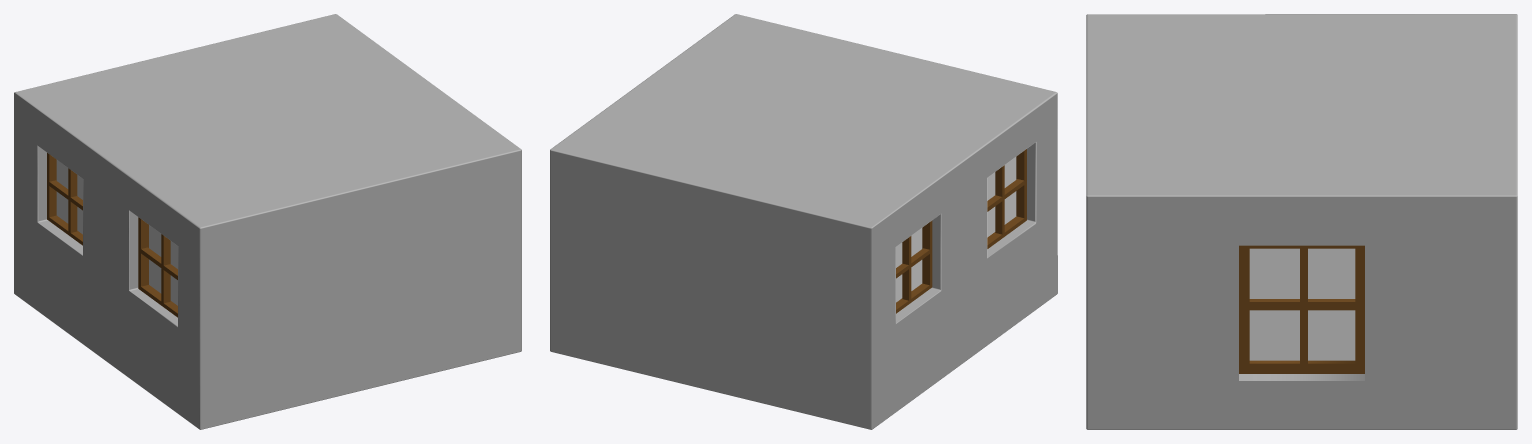
Rendered from F_Door_3.fbx.
3 views of the same model, side by side, from view 1: azimuth 30°, elevation 25°; view 2: azimuth 150°, elevation 25°; view 3: azimuth 270°, elevation 25° (orthographic). The views are drawn at different scales.
Parts seen in each view (by area): view 1: Wall.004, Window_1.003, Window_2.004; view 2: Wall.004, Window_1.003, Window_2.004; view 3: Wall.004, Big_Window.
Part boxes in pixels (x1,y1,x2,y2): Wall.004: [14, 14, 521, 429]; Window_1.003: [138, 217, 177, 317]; Window_2.004: [47, 153, 82, 245]; Wall.004: [550, 14, 1057, 429]; Window_1.003: [987, 149, 1026, 248]; Window_2.004: [896, 220, 932, 313]; Wall.004: [1086, 14, 1517, 429]; Big_Window: [1239, 245, 1364, 373].
Bounding box in the file's own units: 500 × 300 × 500.
